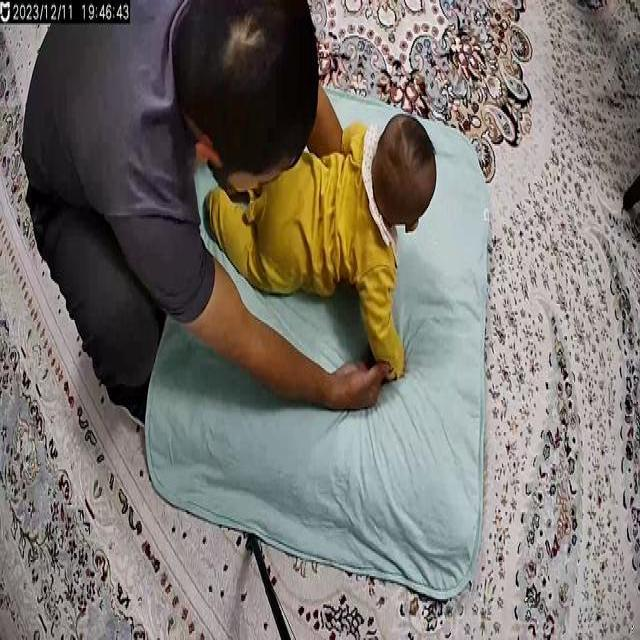baby: (195, 104, 437, 382)
